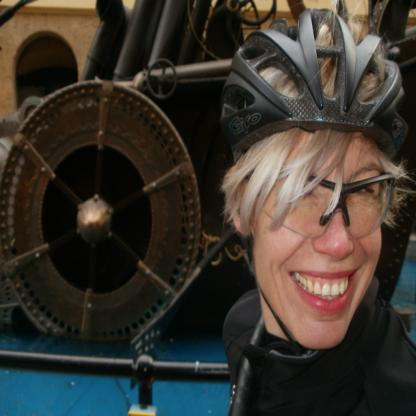Helmet: (218, 6, 411, 348)
